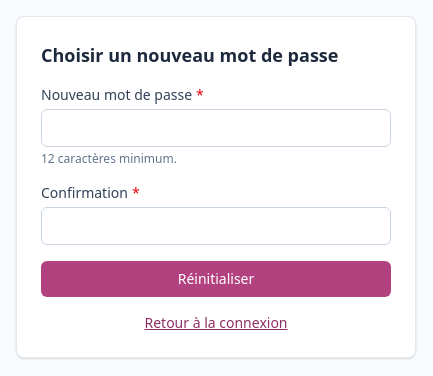
Test: Réinitialisation du mot de passe › refuse deux mots de passe différents sans appeler le serveur
Type "MotDePasseTest-2026" into the password field labelled "Nouveau mot de passe*" at (216, 128), box top-left (41, 109), bottom-right (391, 147)
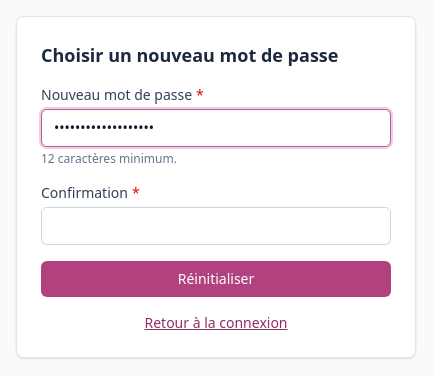
Type "AutreMotDePasse-2026" into the password field labelled "Confirmation*" at (216, 226), box top-left (41, 207), bottom-right (391, 245)
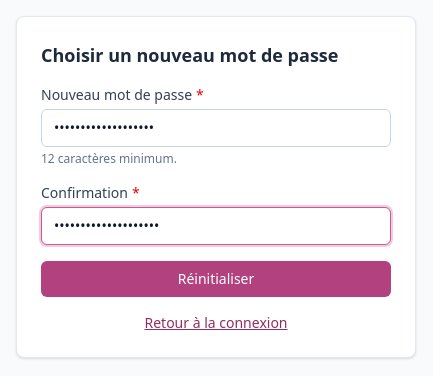
Click the button "Réinitialiser" at (216, 279), box top-left (41, 261), bottom-right (391, 297)
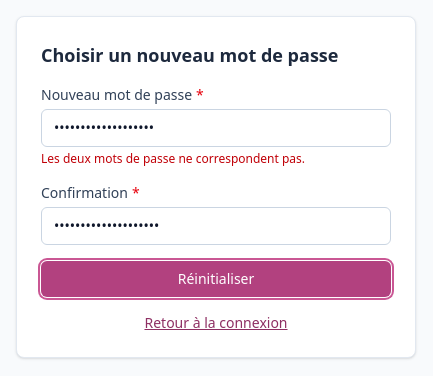
Expected: the text "Les deux mots de passe ne correspondent pas." is shown, top-left (41, 150), bottom-right (305, 167)
